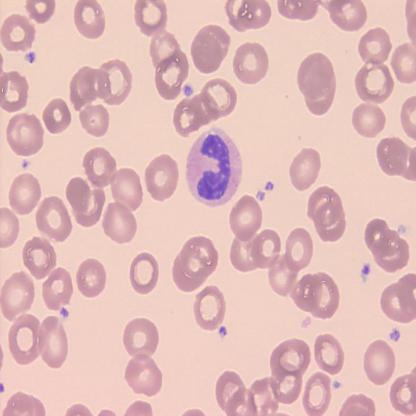Band Neutrophil: (183, 119, 245, 211)
